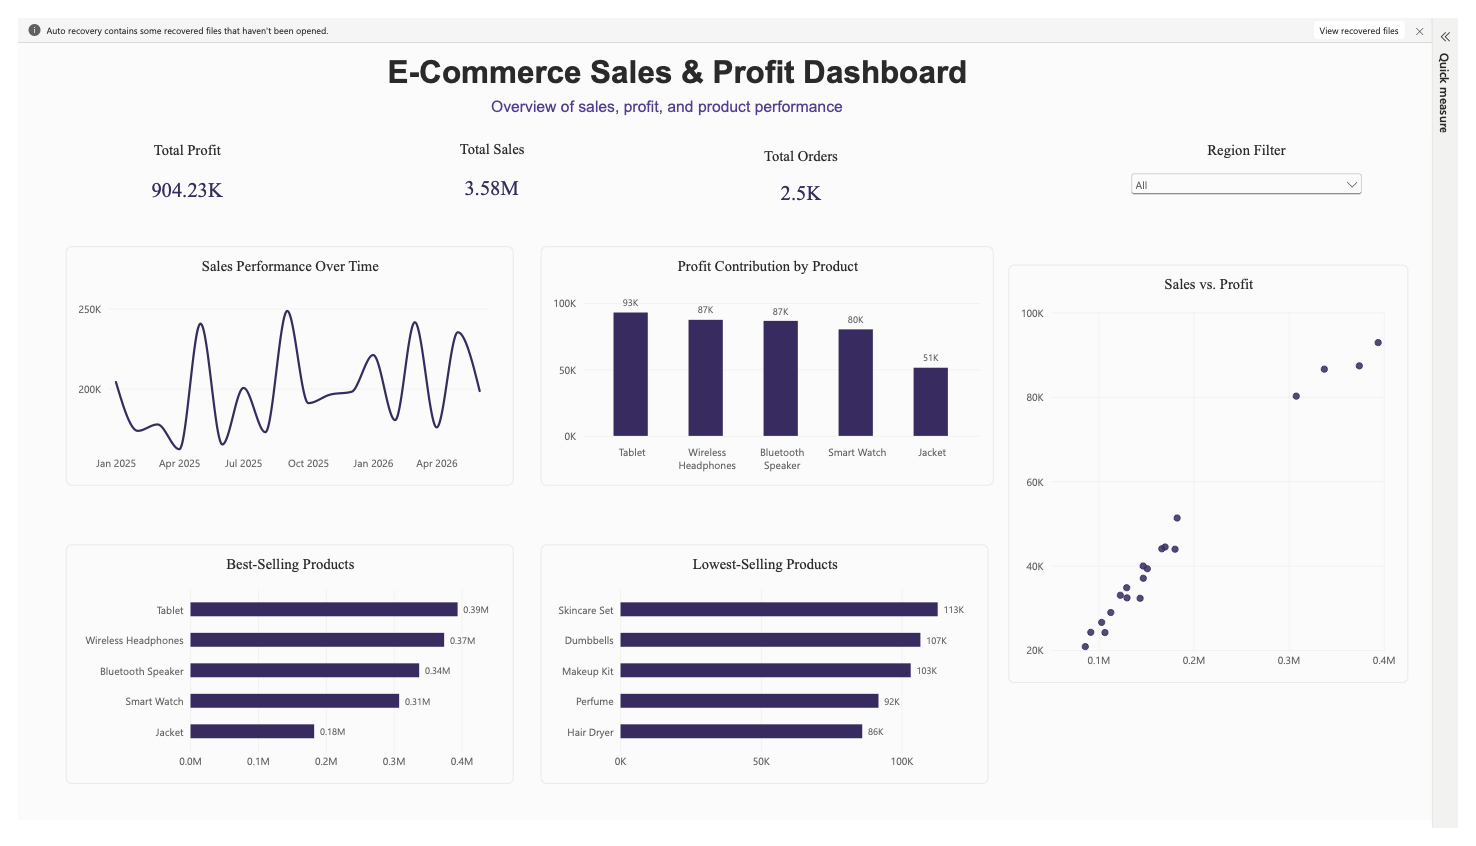

The dashboard page shown, as its layout file describes it:
{"tool":"powerbi","page":{"name":"Page 1","canvas":[1920,1080],"ordinal":0},"visuals":[{"type":"cardVisual","title":"Total Profit","fields":{"Data":["Sum(Ecommerce_Sales_Analytics_Challenge.Profit)"]},"box":[65,157.5,330.3,90.9],"z":0},{"type":"cardVisual","title":"Total Sales","fields":{"Data":["Sum(Ecommerce_Sales_Analytics_Challenge.Sales)"]},"box":[480,156.2,327.5,91.2],"z":1000},{"type":"cardVisual","title":"Total Orders","fields":{"Data":["Count(Ecommerce_Sales_Analytics_Challenge.Order ID)"]},"box":[901.2,166.2,325,82.5],"z":2000},{"type":"lineChart","title":"Sales Performance Over Time","fields":{"Category":["Ecommerce_Sales_Analytics_Challenge.Order Date.Variation.Date Hierarchy.Year","Ecommerce_Sales_Analytics_Challenge.Order Date.Variation.Date Hierarchy.Month"],"Y":["Sum(Ecommerce_Sales_Analytics_Challenge.Sales)"]},"box":[65,300,607.5,325],"z":3000},{"type":"clusteredColumnChart","title":"Profit Contribution by Product","fields":{"Category":["Ecommerce_Sales_Analytics_Challenge.Product"],"Y":["Sum(Ecommerce_Sales_Analytics_Challenge.Profit)"]},"box":[710,300,615,325],"z":4000},{"type":"barChart","title":"Best-Selling Products","fields":{"Category":["Ecommerce_Sales_Analytics_Challenge.Product"],"Y":["Sum(Ecommerce_Sales_Analytics_Challenge.Sales)"]},"box":[65,705,607.5,325],"z":5000},{"type":"barChart","title":"Lowest-Selling Products","fields":{"Category":["Ecommerce_Sales_Analytics_Challenge.Product"],"Y":["Sum(Ecommerce_Sales_Analytics_Challenge.Sales)"]},"box":[710,705,607.5,325],"z":6000},{"type":"slicer","title":"Region Filter","fields":{"Values":["Ecommerce_Sales_Analytics_Challenge.Region"]},"box":[1507.1,157.1,323.3,97.8],"z":6001},{"type":"scatterChart","title":"Sales vs. Profit","fields":{"Category":["Ecommerce_Sales_Analytics_Challenge.Product"],"X":["Sum(Ecommerce_Sales_Analytics_Challenge.Sales)"],"Y":["Sum(Ecommerce_Sales_Analytics_Challenge.Profit)"]},"box":[1345,325,542.5,567.5],"z":6002},{"type":"textbox","box":[65,0,330,150],"z":6003},{"type":"textbox","box":[284,38,1224,150],"z":6004},{"type":"textbox","box":[255,97.5,1252.5,150],"z":6005}]}

Visuals, with their boxes on the page's 1920x1080 design canvas (x1, y1, x2, y2). These are canvas units, not pixel positions in the 1476x846 screenshot, which may show the page scaled, cropped or inside an application window:
"Total Profit" cardVisual: 65 158 395 248
"Total Sales" cardVisual: 480 156 808 247
"Total Orders" cardVisual: 901 166 1226 249
"Sales Performance Over Time" lineChart: 65 300 672 625
"Profit Contribution by Product" clusteredColumnChart: 710 300 1325 625
"Best-Selling Products" barChart: 65 705 672 1030
"Lowest-Selling Products" barChart: 710 705 1318 1030
"Region Filter" slicer: 1507 157 1830 255
"Sales vs. Profit" scatterChart: 1345 325 1888 892
textbox: 65 0 395 150
textbox: 284 38 1508 188
textbox: 255 98 1508 248
